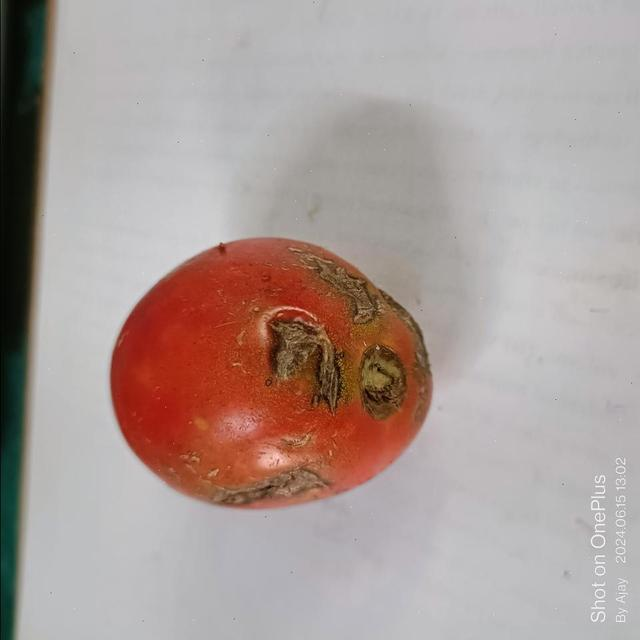Bacterial Spot Fruit: (8, 8, 254, 333)
